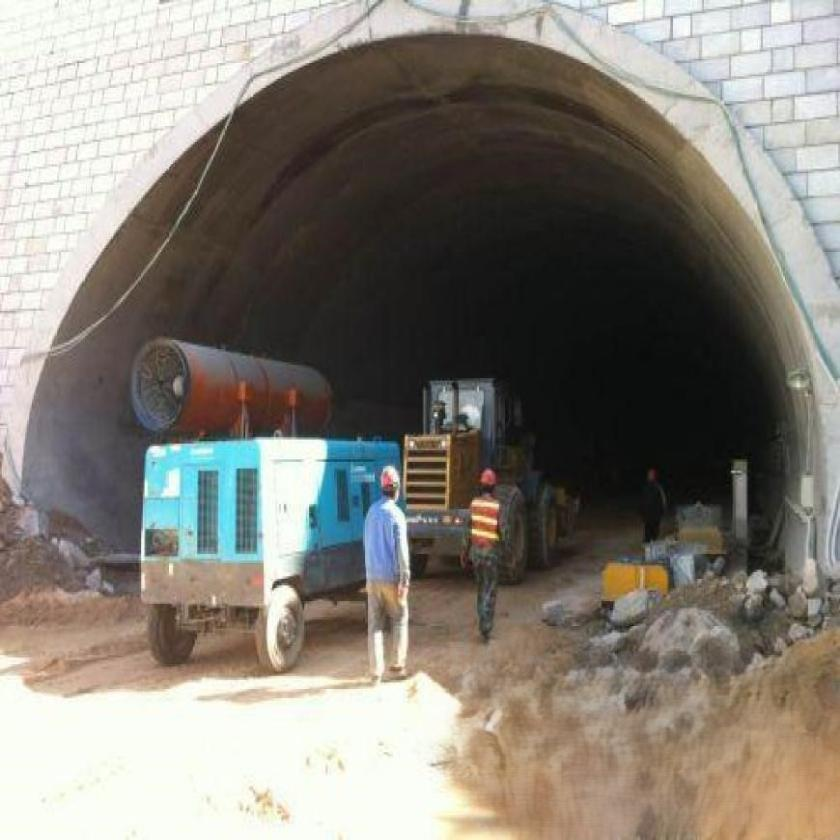Con_casco: (380, 464, 402, 501), (480, 465, 498, 496)
